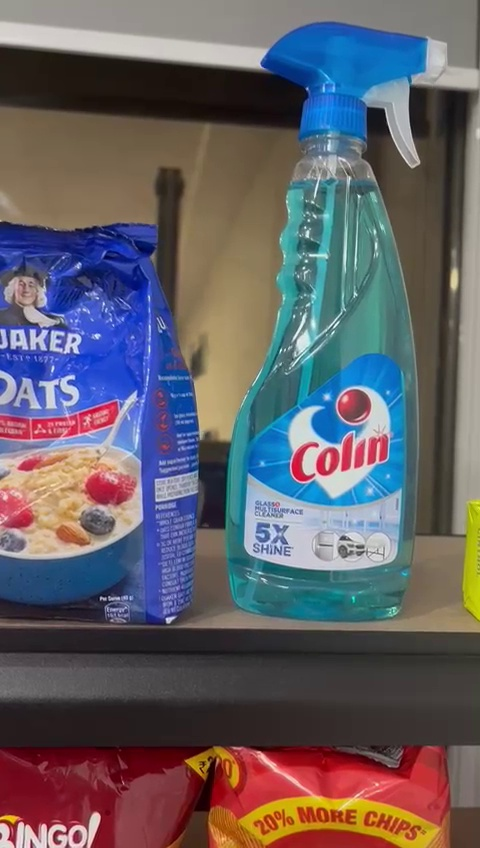Colin: (221, 4, 458, 624)
